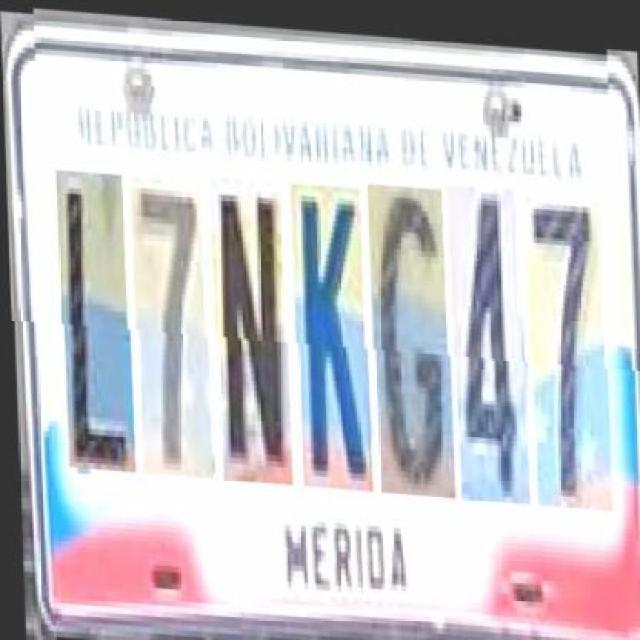4: (448, 176, 527, 496)
7: (526, 188, 609, 502), (132, 174, 210, 475)
g: (370, 177, 452, 491)
k: (292, 179, 370, 486)
l: (57, 169, 132, 471)
n: (212, 173, 290, 481)
